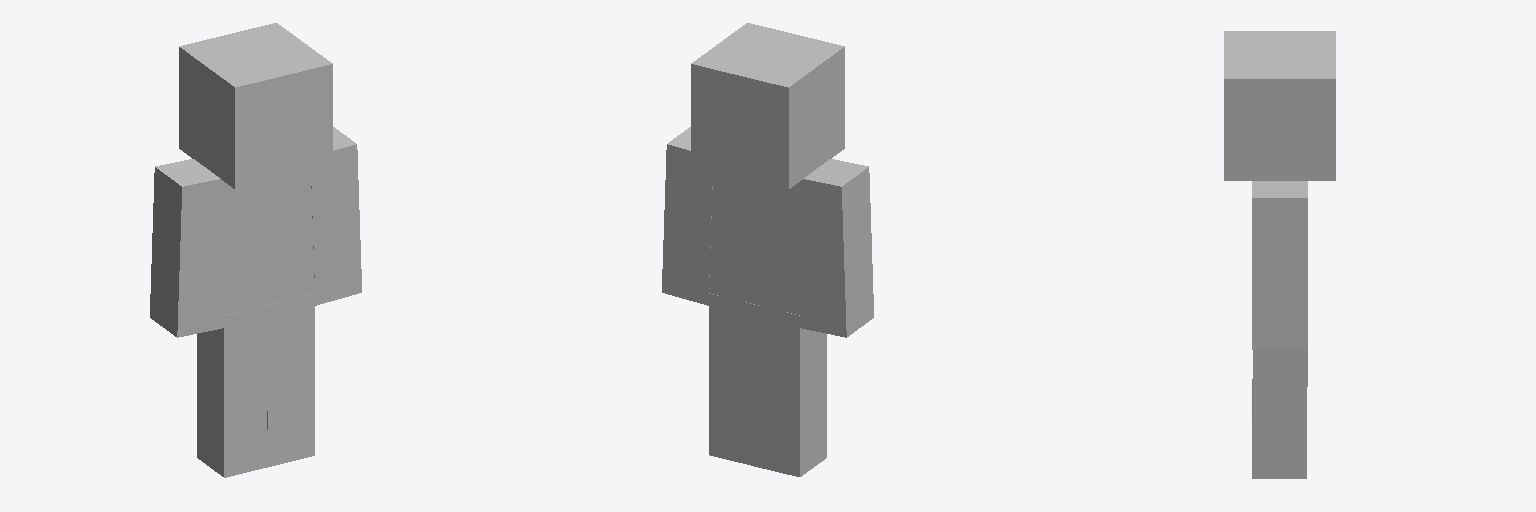
File: player.obj
3 views of the same model, side by side, from view 1: azimuth 30°, elevation 25°; view 2: azimuth 150°, elevation 25°; view 3: azimuth 270°, elevation 25° (orthographic).
Parts seen in each view (by area): view 1: Body_Plane.001; view 2: Body_Plane.001; view 3: Body_Plane.001.
Part boxes in pixels (bbox=[...]): Body_Plane.001: bbox=[150, 23, 361, 477]; Body_Plane.001: bbox=[662, 23, 873, 476]; Body_Plane.001: bbox=[1224, 31, 1335, 478].
Size of the model in its own units: 10.66 by 22.11 by 5.62.